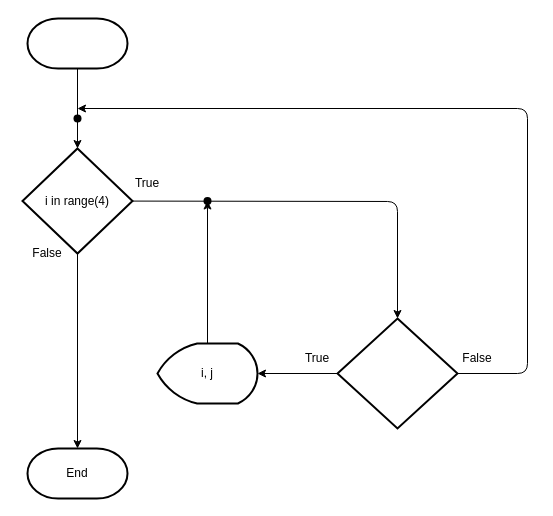
The diagram is 553 pixels wide and 516 high, and some of its shapes have lost their labels. Here are the shapes that lost their labels. From the top down, the centre of each, then its label:
point (77, 43): Start
point (397, 373): j in range(i)
